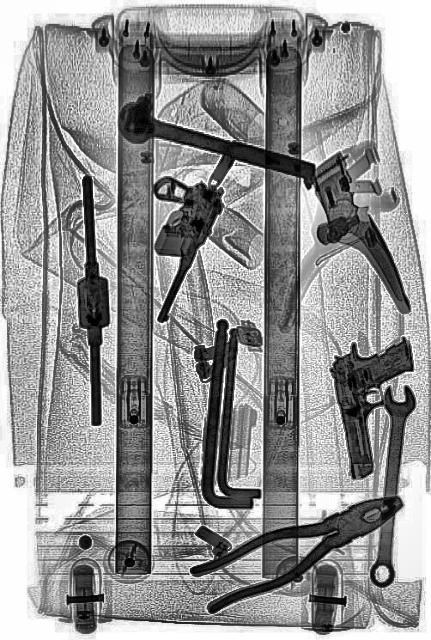Gun: (107, 146, 228, 330), (326, 324, 430, 482)
Pliers: (188, 475, 408, 621)
Wrench: (363, 382, 418, 590)
